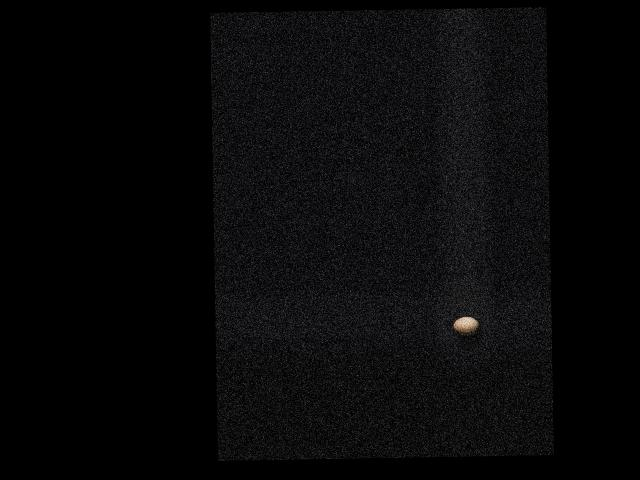egg: (452, 316, 479, 335)
